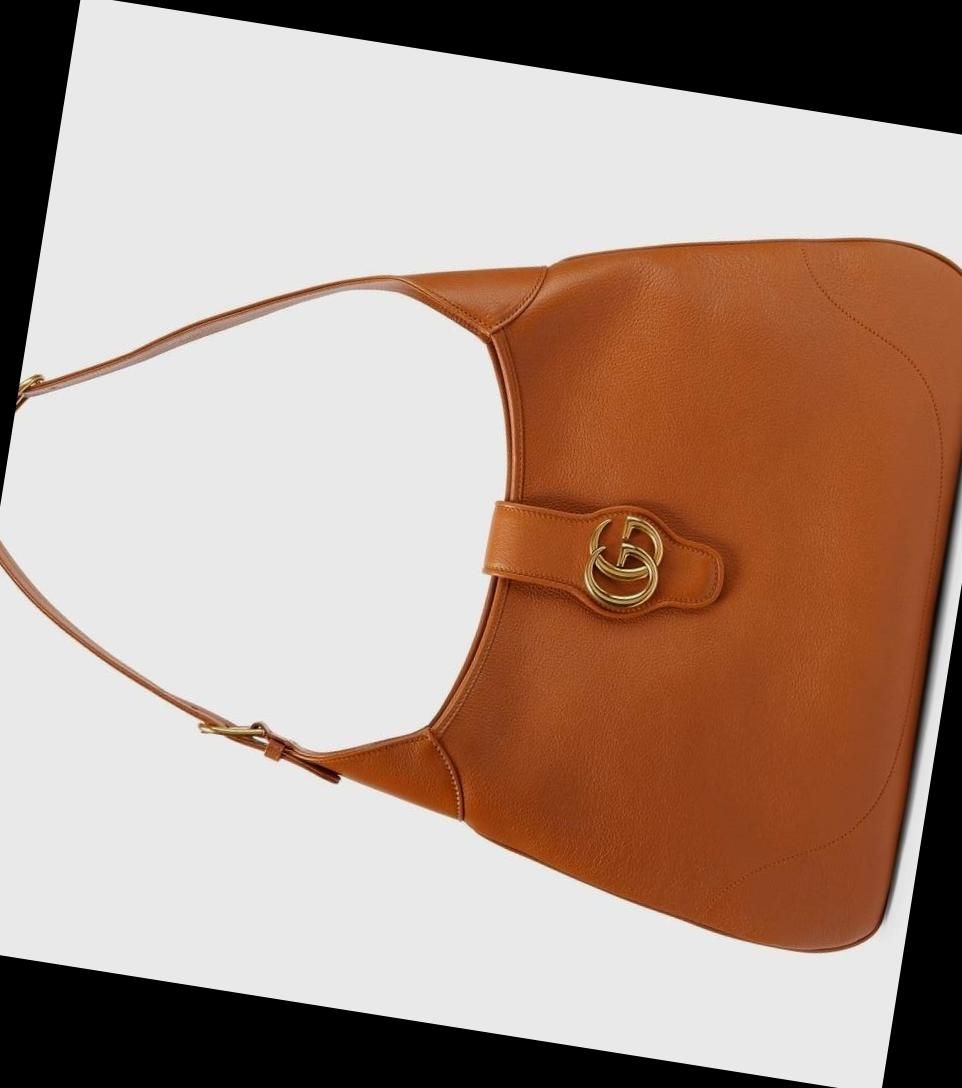GUCCI: (580, 507, 668, 613)
